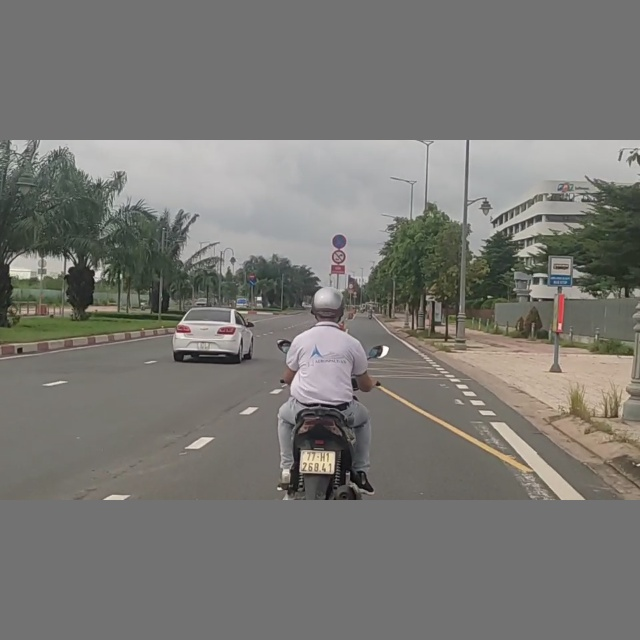I.434a: (548, 253, 575, 287)
P.111: (331, 250, 347, 263)
P.130: (332, 233, 347, 249)
